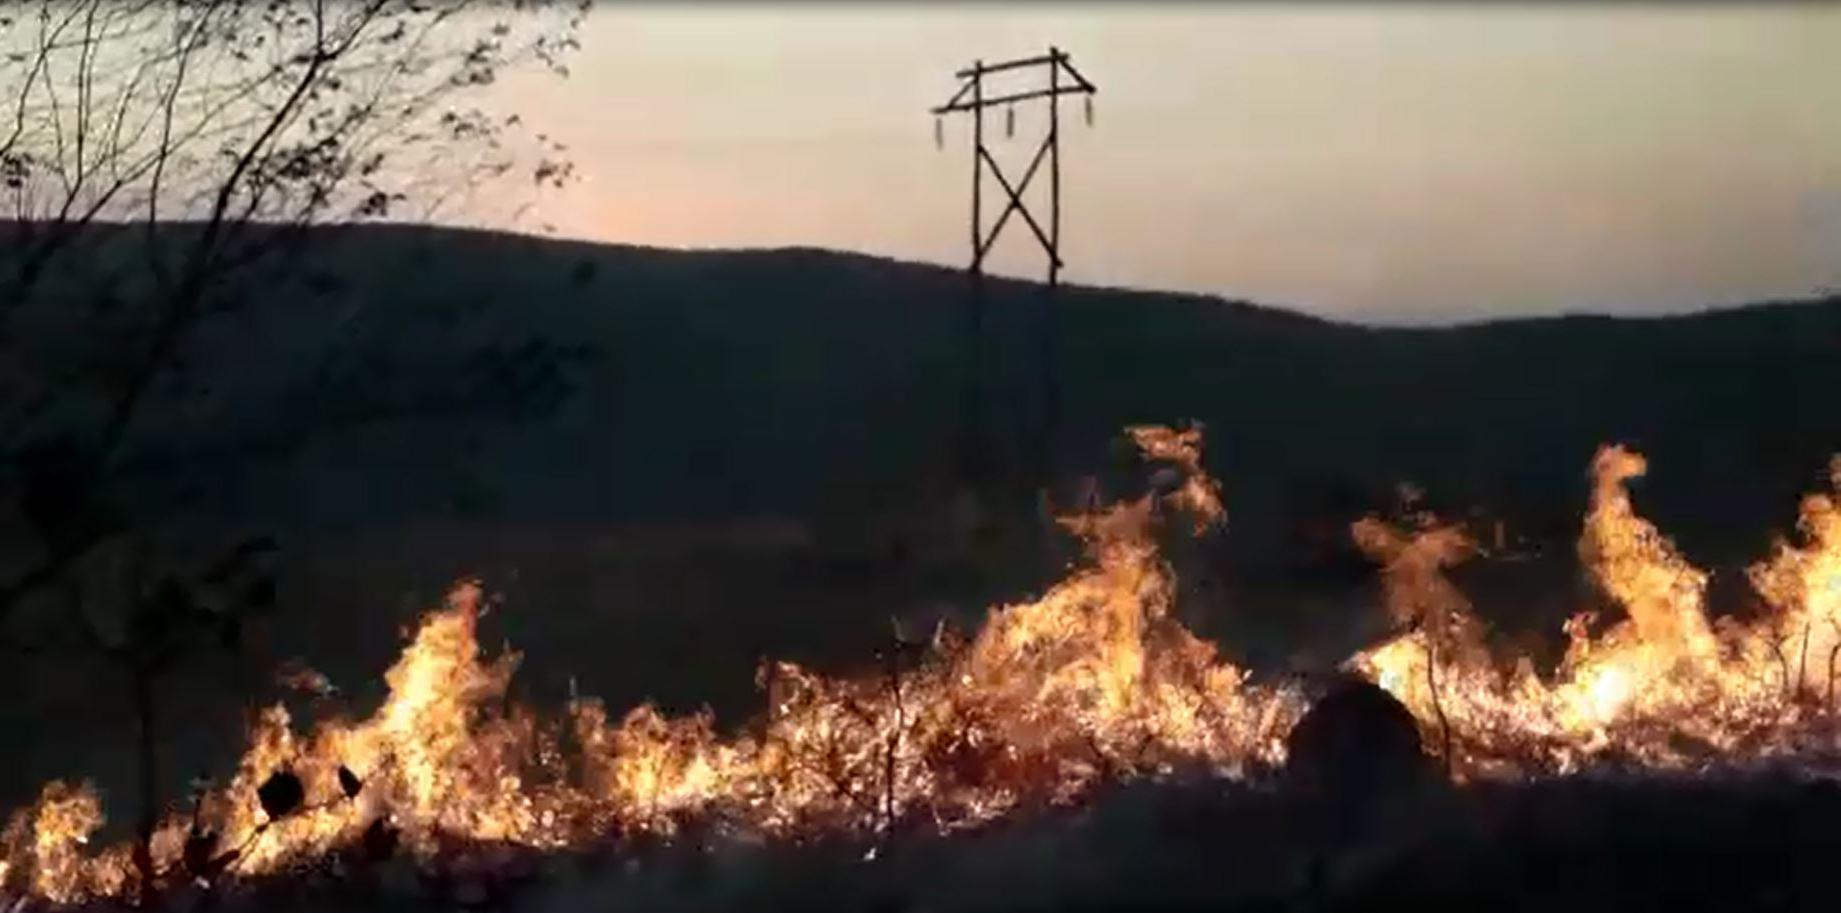Fire: (6, 431, 1301, 901), (1353, 438, 1839, 798)
